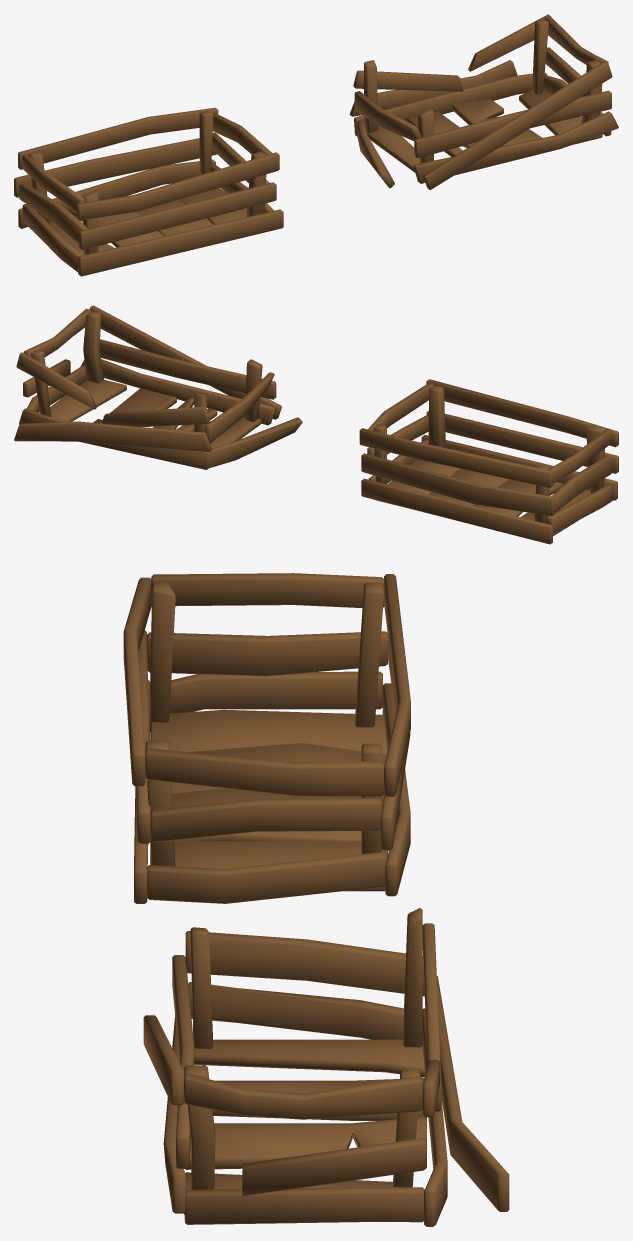
The model's file is Crate_2x.obj.
3 renders of one model, top to bottom at view 1: azimuth 30°, elevation 25°; view 2: azimuth 150°, elevation 25°; view 3: azimuth 270°, elevation 25°, orthographic. The views are drawn at different scales.
Visible parts, largest first — view 1: Crate_01_GEO, Crate_02_GEO; view 2: Crate_01_GEO, Crate_02_GEO; view 3: Crate_01_GEO, Crate_02_GEO.
Boxes of the visible parts, x1,y1,x2,y2 form: Crate_01_GEO: [14, 107, 283, 276]; Crate_02_GEO: [349, 14, 618, 189]; Crate_01_GEO: [359, 379, 618, 544]; Crate_02_GEO: [14, 305, 302, 469]; Crate_01_GEO: [123, 573, 410, 903]; Crate_02_GEO: [143, 908, 509, 1226].
Size of the model in its own units: 3.14 by 0.4229 by 0.99.
